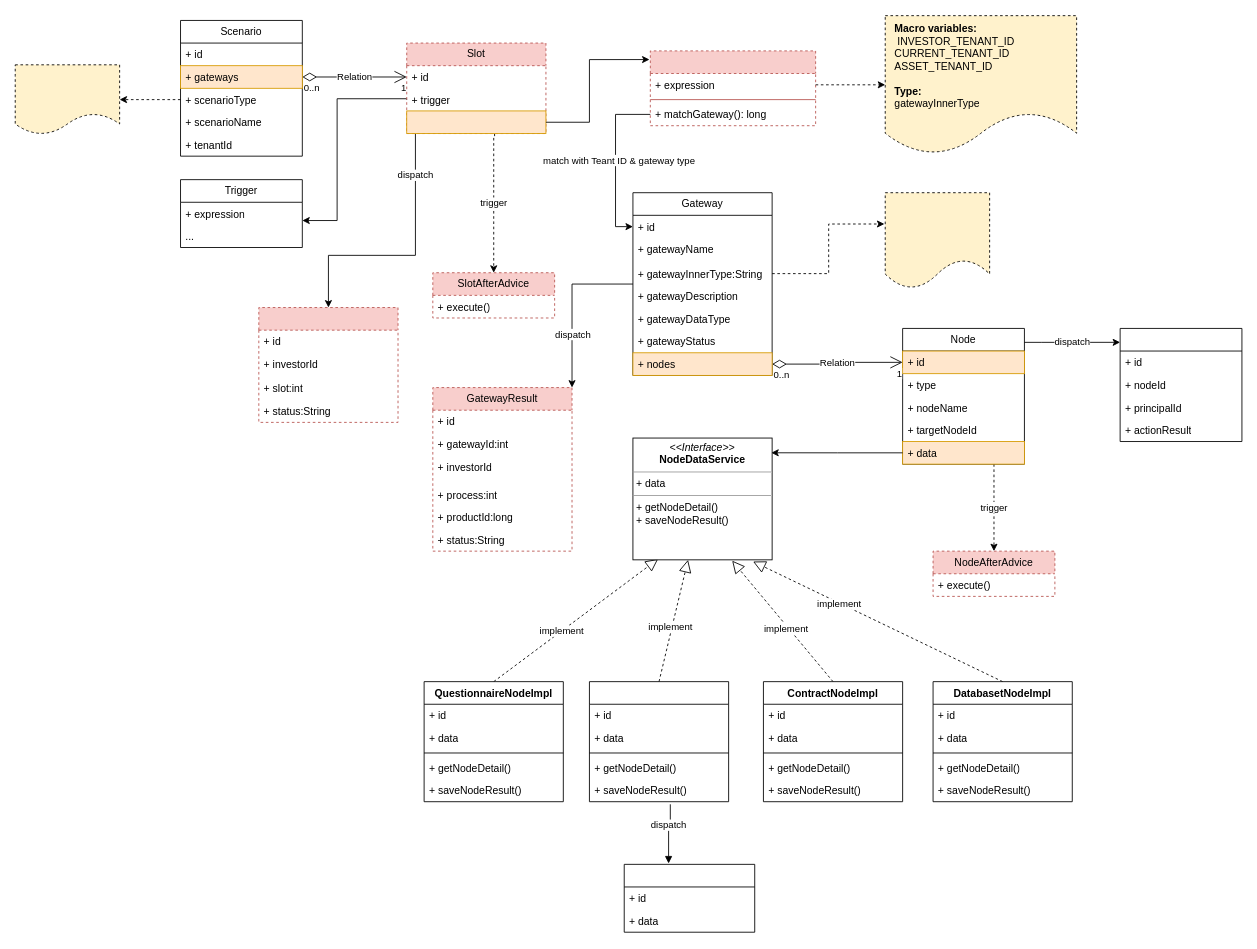
This 1257x949 diagram has some shape labels left out. The shapes that lost their labels are listed below. From the top down, each one's box as (x1, y1, x2, y2) in pixels, then its label:
(14, 64, 120, 134): ONBOARDING IDENTITY
(649, 50, 816, 126): GatewayCriteria
(406, 110, 546, 134): + criteria
(884, 192, 990, 288): KYC ONBOARDING RFFI NDA INVEST_FLOW
(258, 307, 398, 422): SlotResult
(1119, 328, 1242, 442): NodeResult
(589, 681, 729, 802): ActionFormNodeImpl
(623, 863, 755, 932): ActionFormResult
